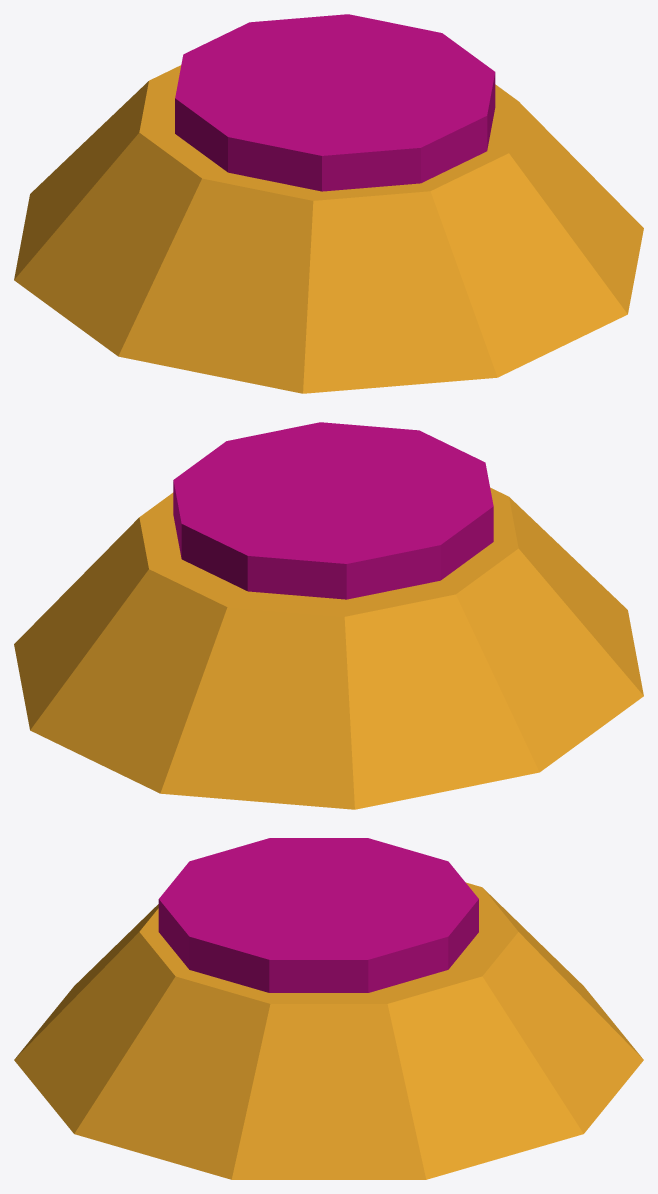
Rendered from Button.fbx.
3 views of the same model, one above another, from view 1: azimuth 30°, elevation 25°; view 2: azimuth 150°, elevation 25°; view 3: azimuth 270°, elevation 25° (orthographic). The views are drawn at different scales.
Parts seen in each view (by area): view 1: Cylinder.001, Cylinder.002; view 2: Cylinder.001, Cylinder.002; view 3: Cylinder.001, Cylinder.002.
Part boxes in pixels (left/top/right/bottom): Cylinder.001: left=14, top=65, right=643, bottom=393; Cylinder.002: left=175, top=14, right=495, bottom=191; Cylinder.001: left=14, top=487, right=643, bottom=809; Cylinder.002: left=173, top=422, right=493, bottom=599; Cylinder.001: left=14, top=882, right=643, bottom=1179; Cylinder.002: left=158, top=838, right=478, bottom=992.
Bounding box in the file's own units: 9.43 × 2.96 × 10.48.
